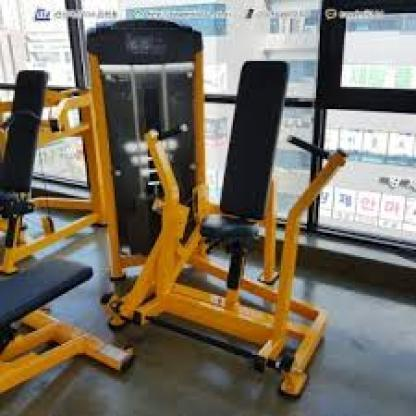Chest Press machine: (2, 15, 349, 402)
